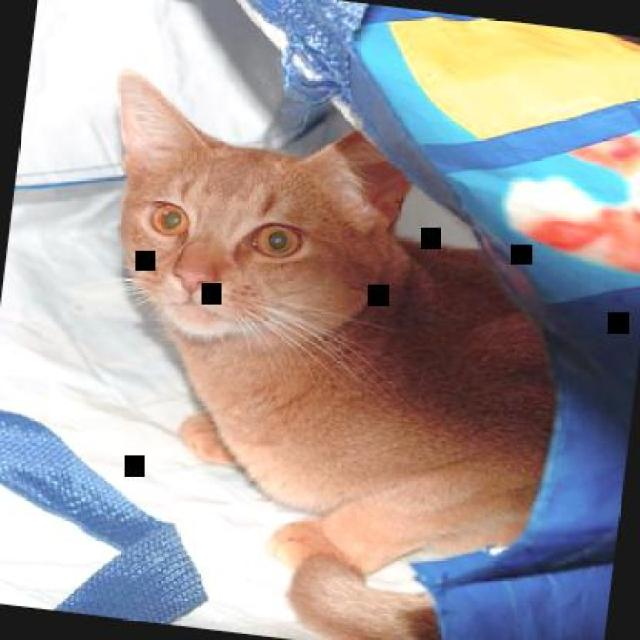cat: (48, 63, 590, 639)
